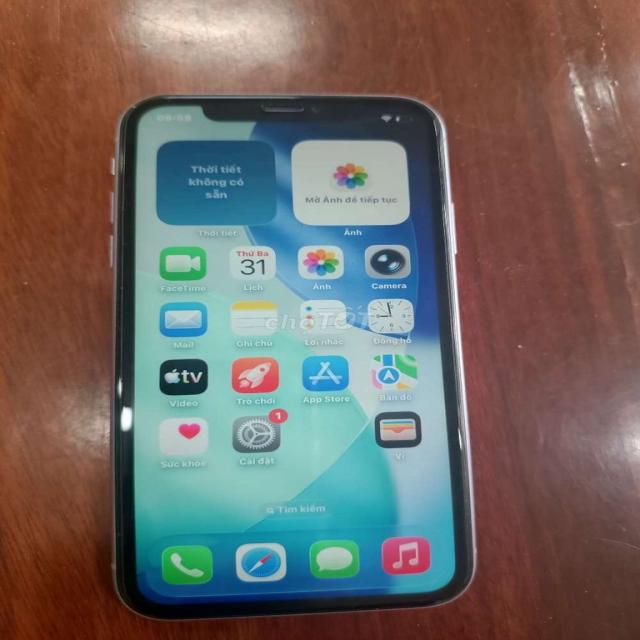gen_11: (112, 98, 475, 619)
